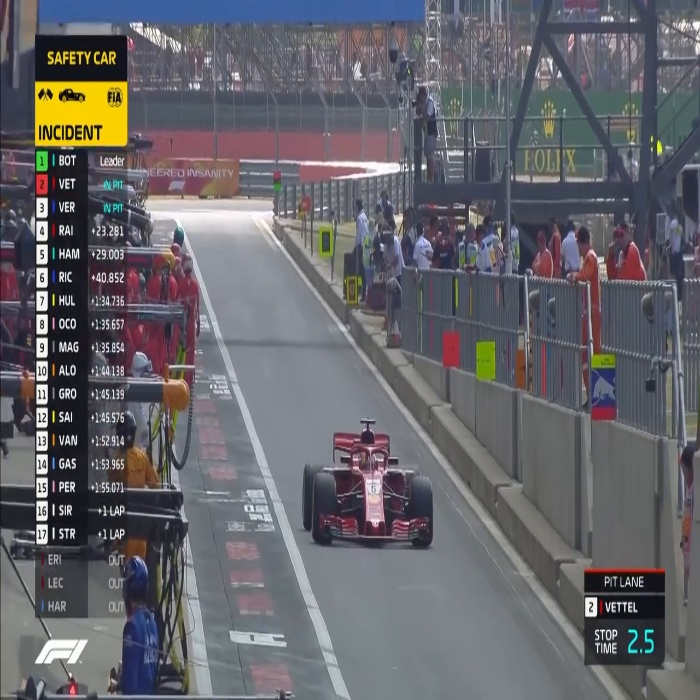f1_car: (288, 409, 445, 566)
